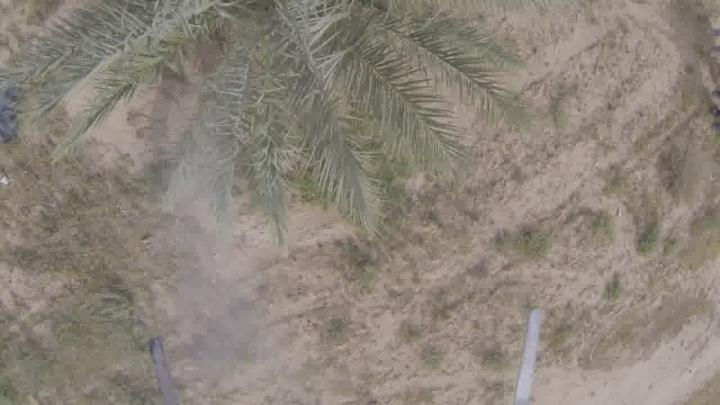Date-Palm-Crown: (59, 0, 453, 162)
